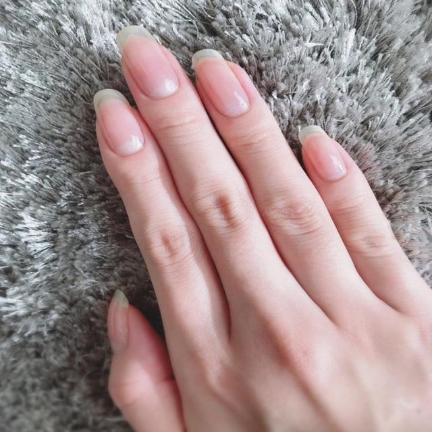Nail: (115, 26, 179, 99), (192, 48, 250, 118), (93, 89, 145, 155), (299, 125, 347, 181), (106, 289, 130, 351)
